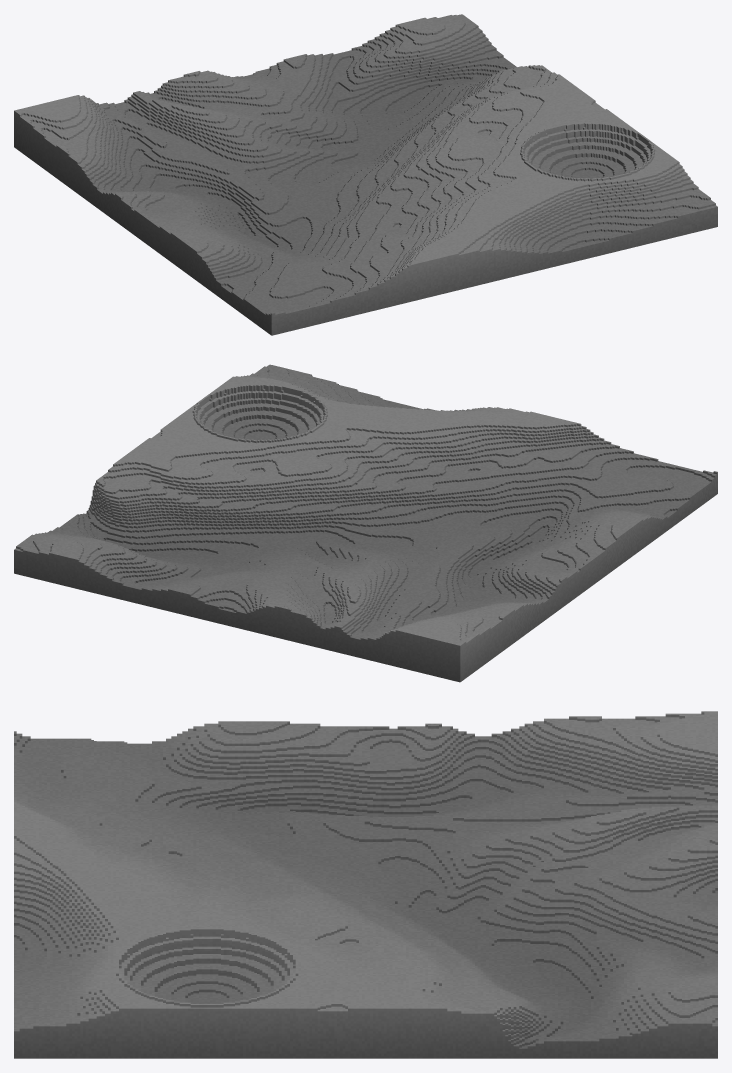
Rendered from LunaGrande-7.obj.
3 renders of one model, top to bottom at view 1: azimuth 30°, elevation 25°; view 2: azimuth 150°, elevation 25°; view 3: azimuth 270°, elevation 25°, orthographic. The views are drawn at different scales.
Size of the model in its own units: 25.5 by 2.1 by 25.5.
1 material, 1 textured.
